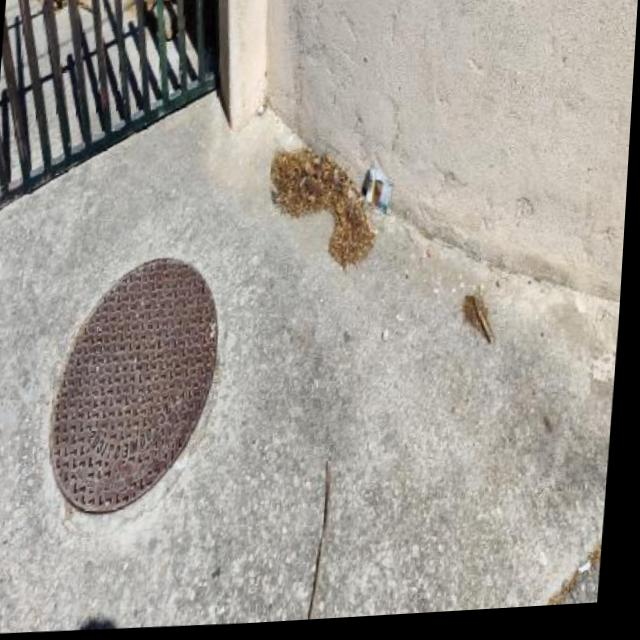cardboard: (359, 162, 397, 214)
